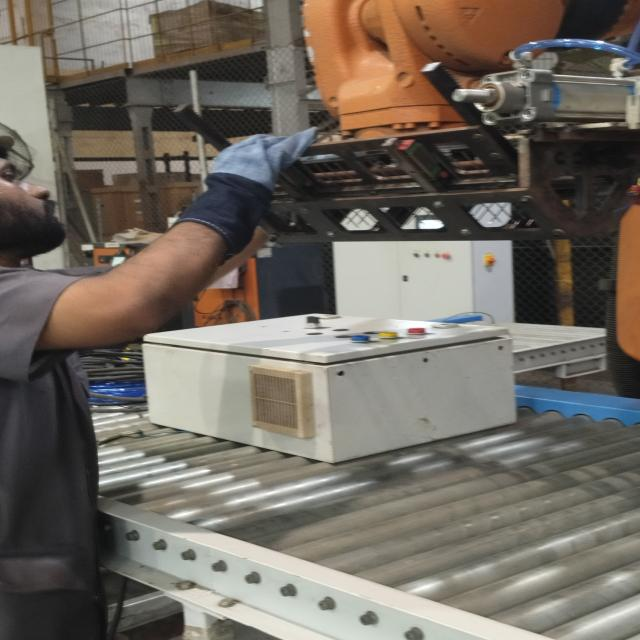Gloves-Detection: (177, 123, 315, 255)
